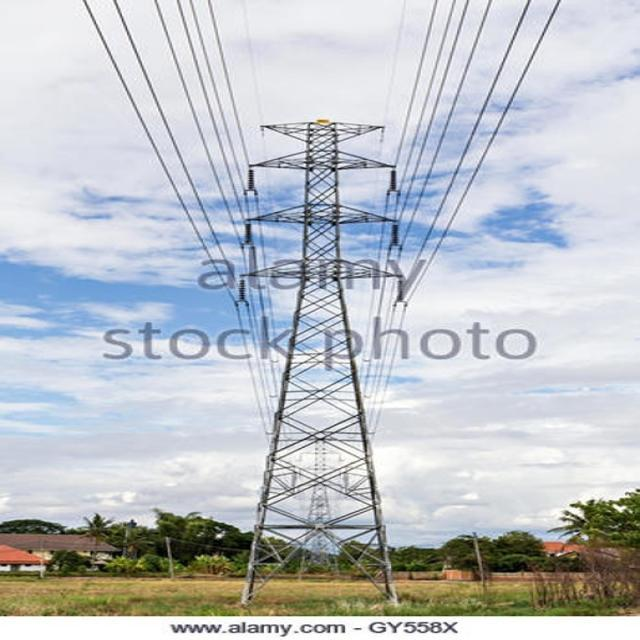non-critical vegetation: (193, 113, 441, 606)
